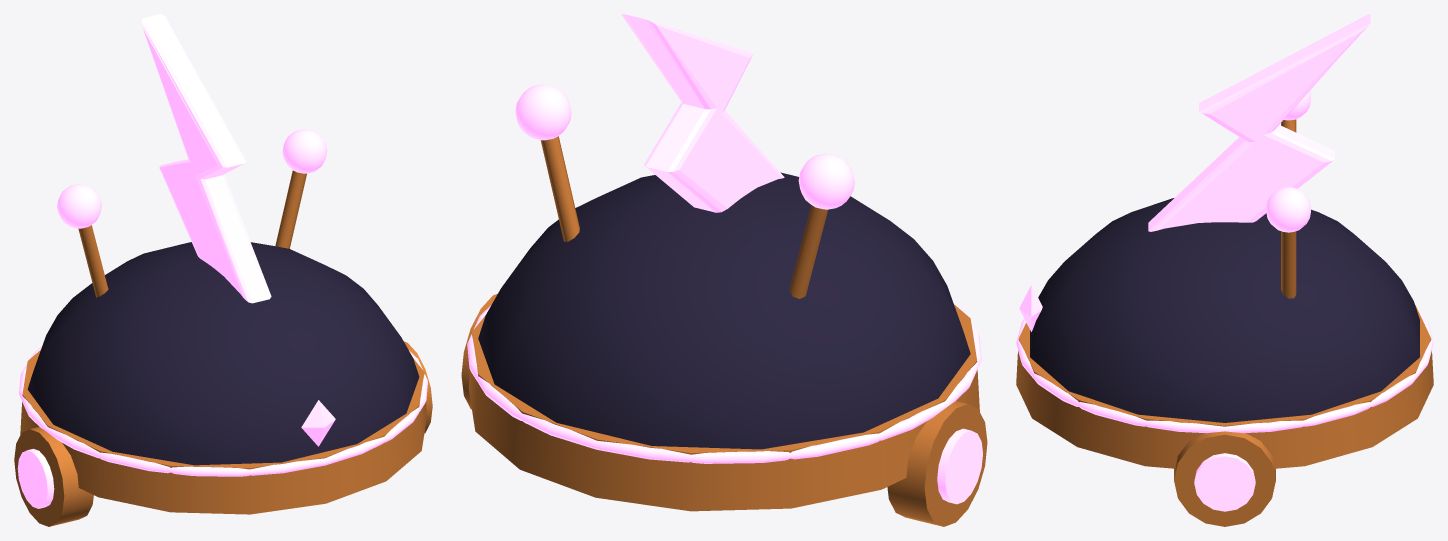
The model's file is hat_eqgw3.glb.
The picture shows the model from 3 angles, left to right: view 1: azimuth 30°, elevation 25°; view 2: azimuth 150°, elevation 25°; view 3: azimuth 270°, elevation 25°; orthographic projection. The views are drawn at different scales.
Size of the model in its own units: 2.55 by 2.62 by 2.38.
